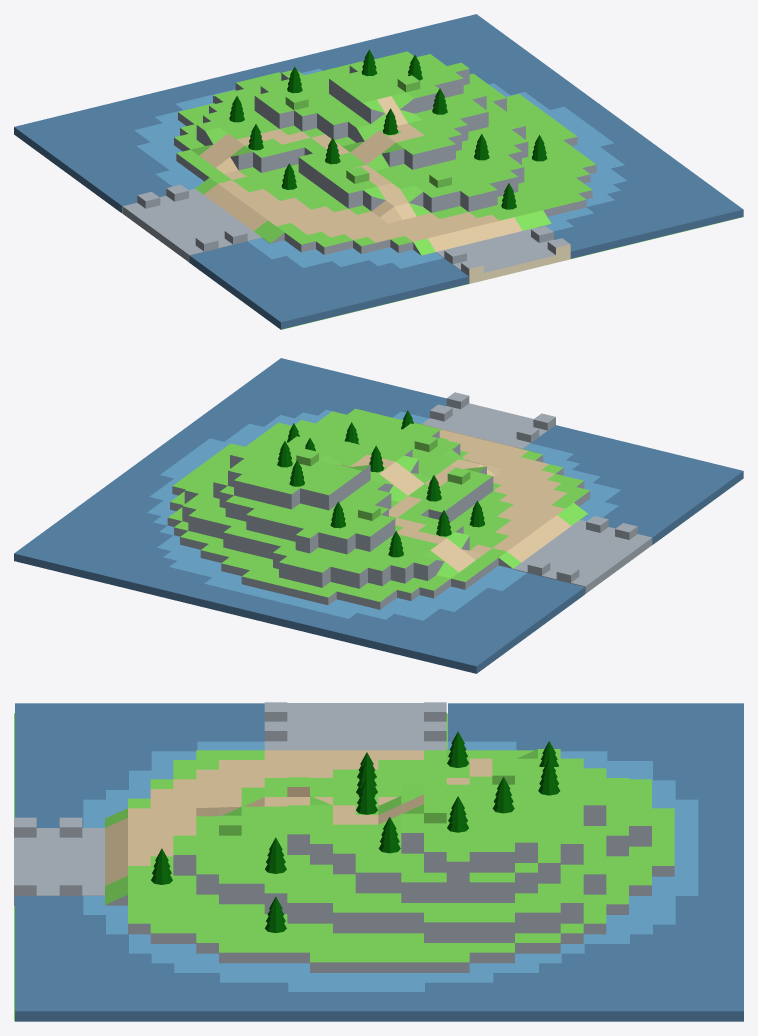
Rendered from Low_poli_level32_32.fbx.
3 views of the same model, one above another, from view 1: azimuth 30°, elevation 25°; view 2: azimuth 150°, elevation 25°; view 3: azimuth 270°, elevation 25° (orthographic). The views are drawn at different scales.
Visible parts, largest first — view 1: Plane32_32, Water, Trees; view 2: Plane32_32, Water, Trees; view 3: Plane32_32, Water, Trees.
Part boxes in pixels (box(x1,y1,x2,y2)): Plane32_32: box(122, 51, 743, 329); Water: box(14, 14, 743, 329); Trees: box(229, 49, 547, 209); Plane32_32: box(167, 392, 652, 609); Water: box(14, 358, 743, 673); Trees: box(277, 410, 484, 557); Plane32_32: box(14, 702, 674, 1021); Water: box(15, 703, 743, 1021); Trees: box(151, 731, 559, 932).
Size of the model in its own units: 32.01 by 5.58 by 32.05.
